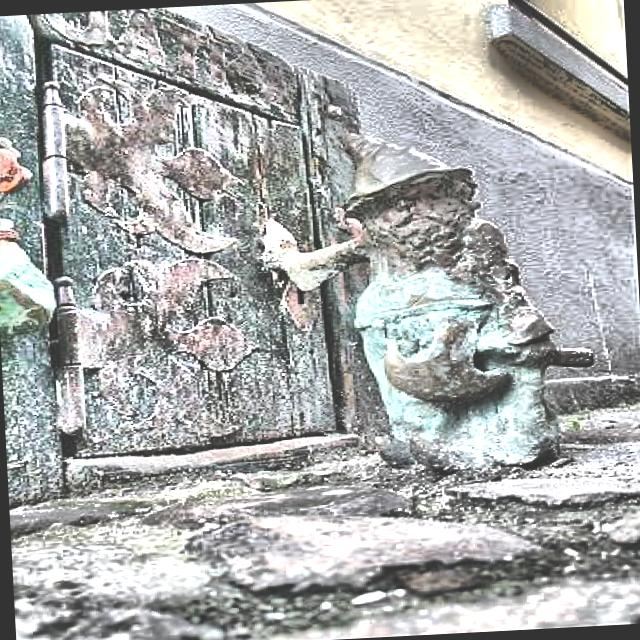Rzeznik: (269, 135, 593, 469)
